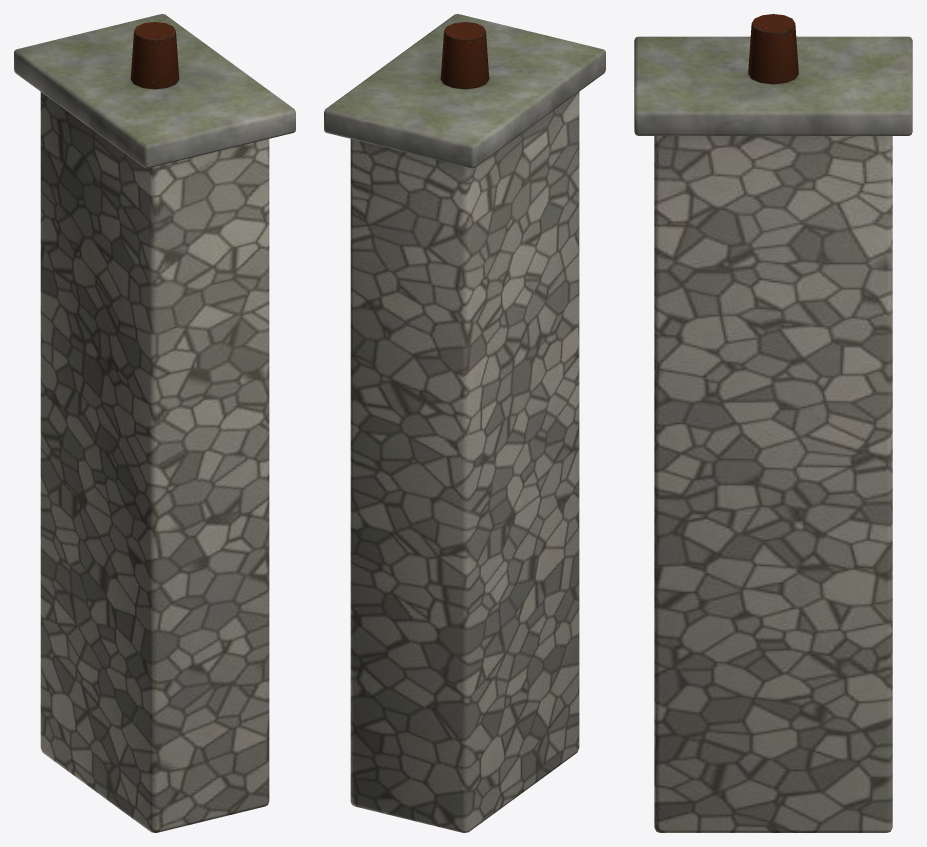
The model's file is home_ext_chimney.glb.
The picture shows the model from 3 angles, left to right: view 1: azimuth 30°, elevation 25°; view 2: azimuth 150°, elevation 25°; view 3: azimuth 270°, elevation 25°; orthographic projection. The views are drawn at different scales.
Visible parts, largest first — view 1: home_ext_chimney; view 2: home_ext_chimney; view 3: home_ext_chimney.
Boxes of the visible parts, box(x1,y1,x2,y2) form: home_ext_chimney: box(14, 14, 295, 832); home_ext_chimney: box(324, 14, 605, 832); home_ext_chimney: box(634, 14, 912, 832).
Size of the model in its own units: 0.92 by 4.34 by 1.4.
Materials: 1 (1 with a texture image).
